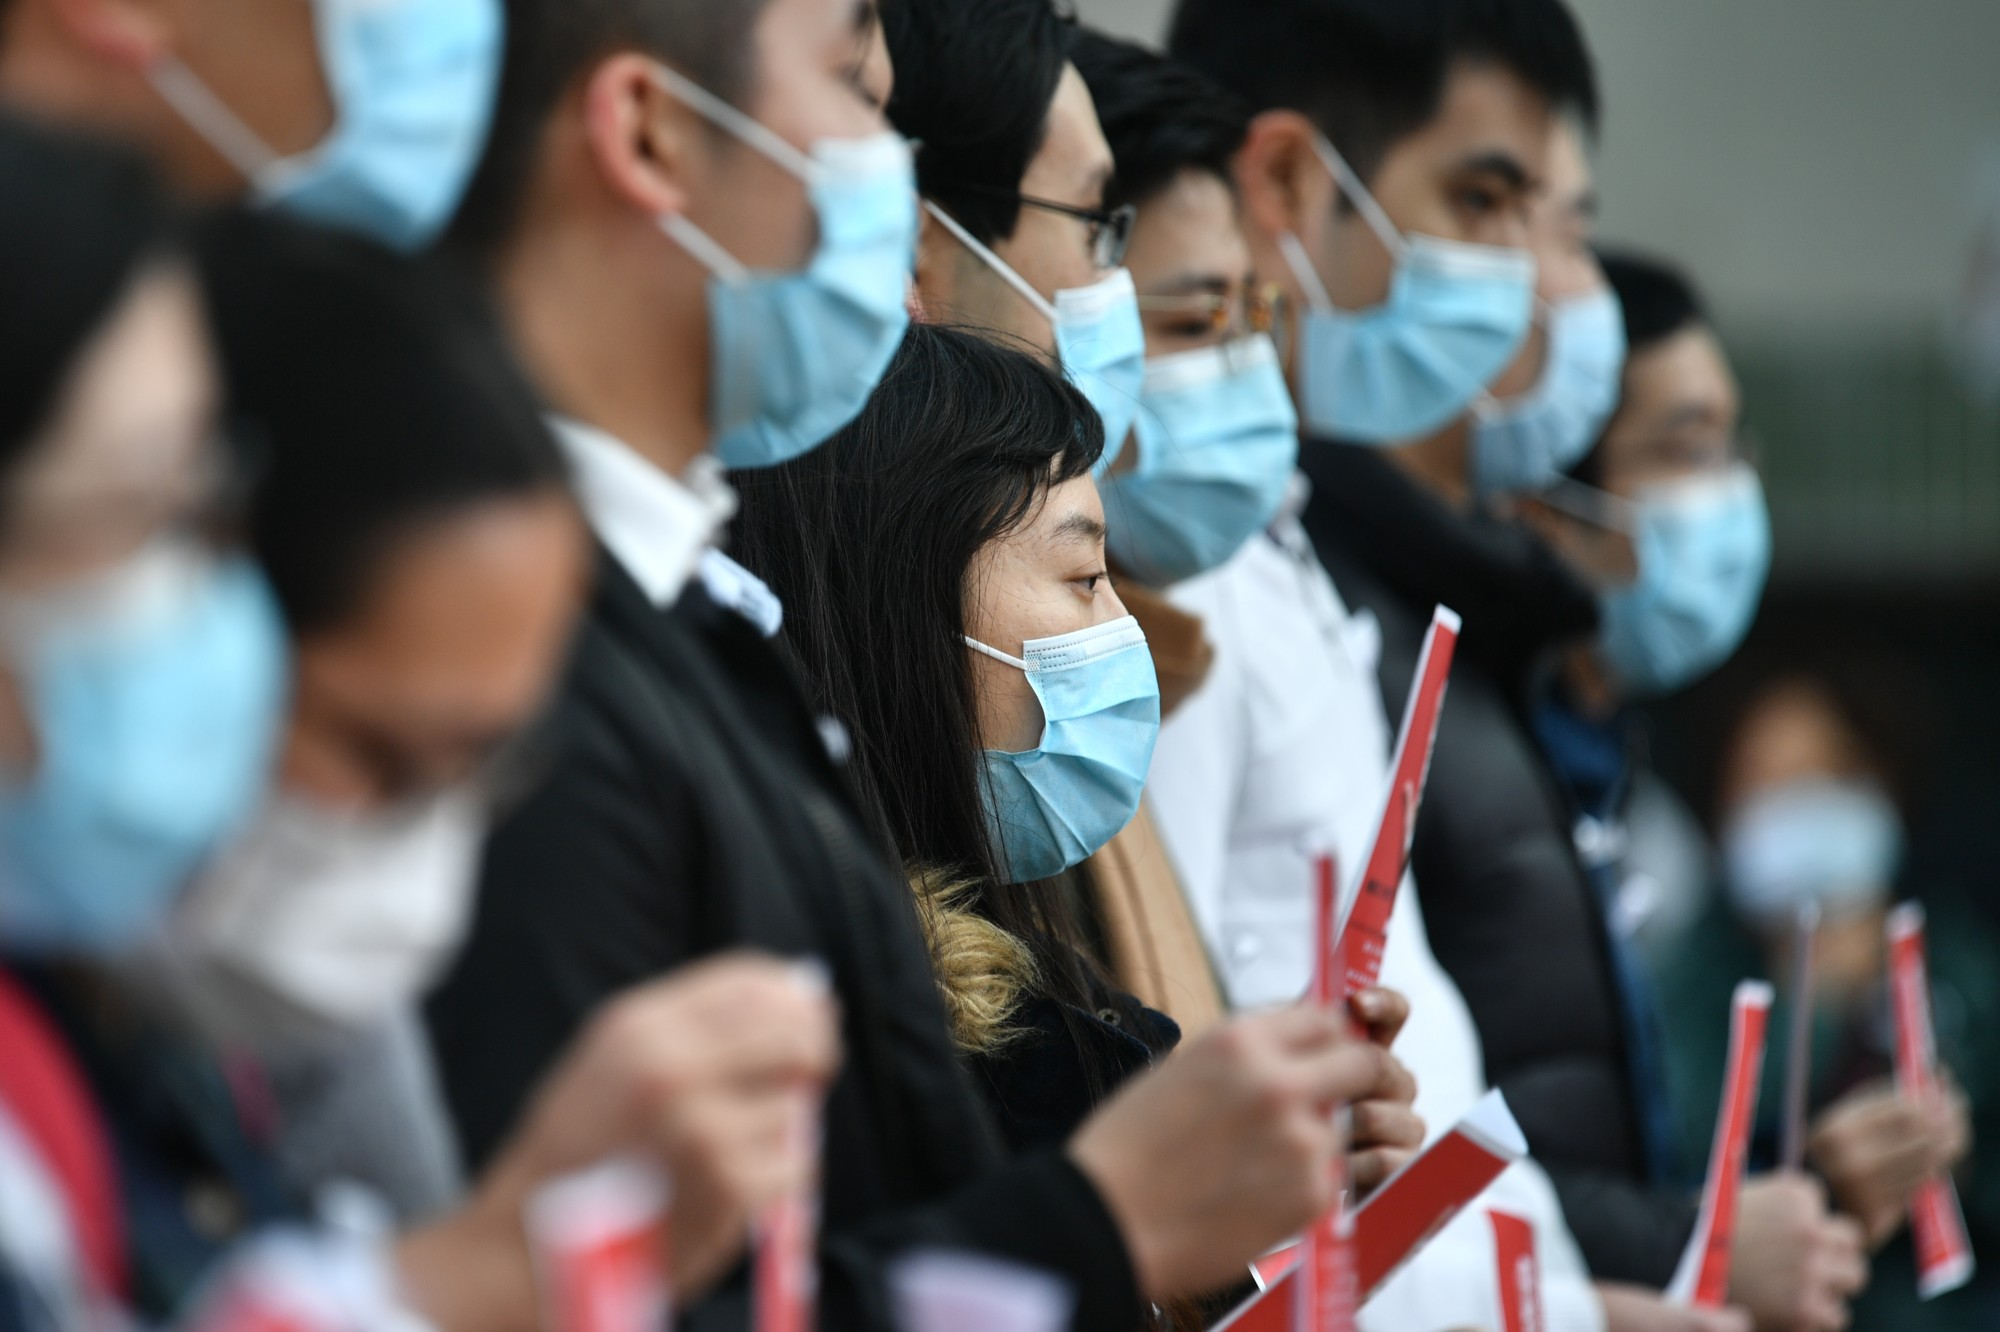with_mask: (587, 11, 914, 468), (886, 476, 1165, 898), (927, 13, 1149, 468), (1294, 32, 1534, 437), (1131, 168, 1307, 619), (1628, 349, 1766, 709)
